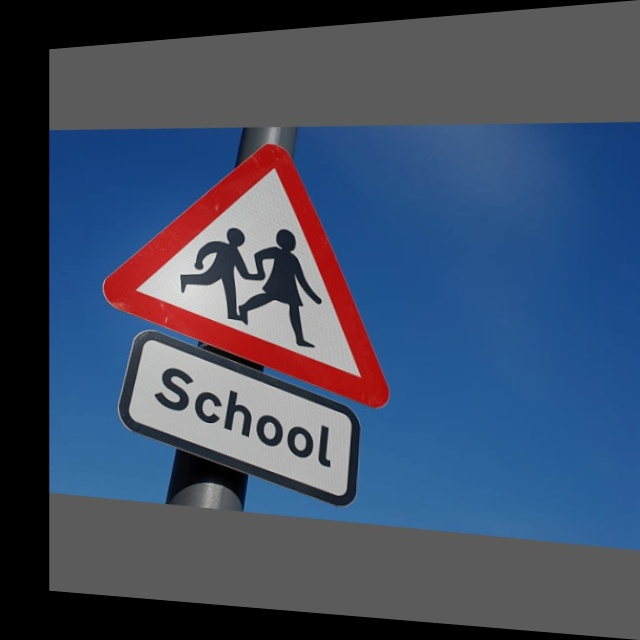School_Ahead: (104, 118, 416, 397)
